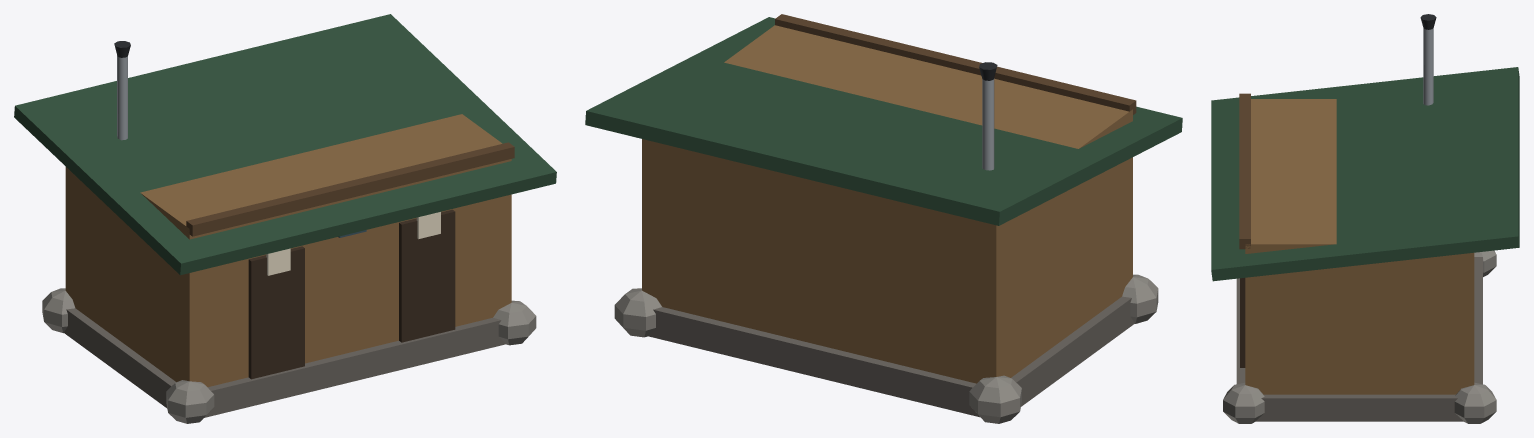
Rendered from restroom.glb.
3 views of the same model, side by side, from view 1: azimuth 30°, elevation 25°; view 2: azimuth 150°, elevation 25°; view 3: azimuth 270°, elevation 25° (orthographic). The views are drawn at different scales.
Visible parts, largest first — view 1: restroom, foundation, door (×2); view 2: restroom, foundation; view 3: restroom, foundation, door.
Boxes of the visible parts, bbox=[...] form: restroom: bbox=[14, 14, 556, 387]; foundation: bbox=[42, 288, 536, 423]; door (×2): bbox=[248, 209, 455, 379]; restroom: bbox=[585, 14, 1182, 383]; foundation: bbox=[614, 274, 1158, 423]; restroom: bbox=[1211, 14, 1519, 394]; foundation: bbox=[1223, 250, 1496, 423]; door: bbox=[1240, 278, 1245, 367].
Bounding box in the file's own units: 7 × 5.28 × 5.39.
